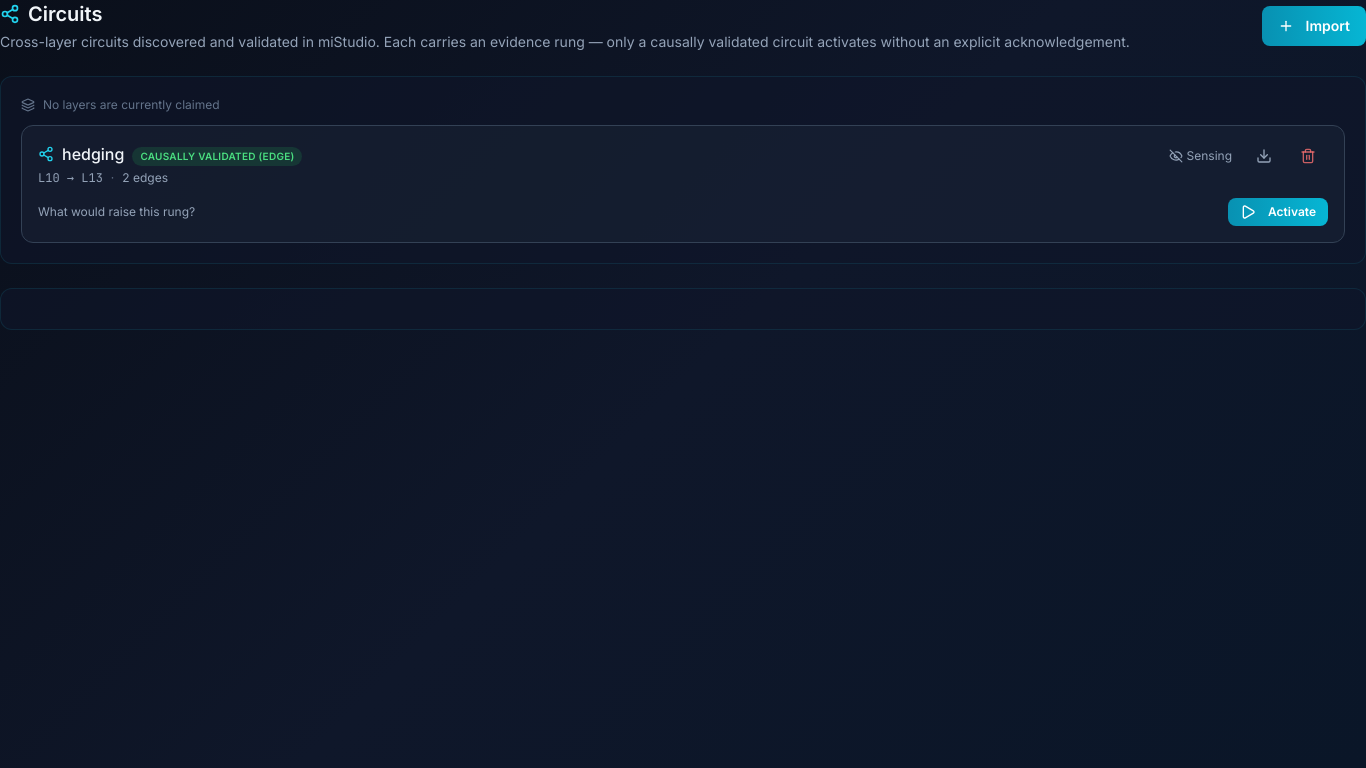
it: CircuitsPage — layer contention › names EVERY incumbent, not just the one it can deactivate
Click the button with test id "activate-button" at (1278, 212), box left=1228, top=198, right=1328, bottom=226
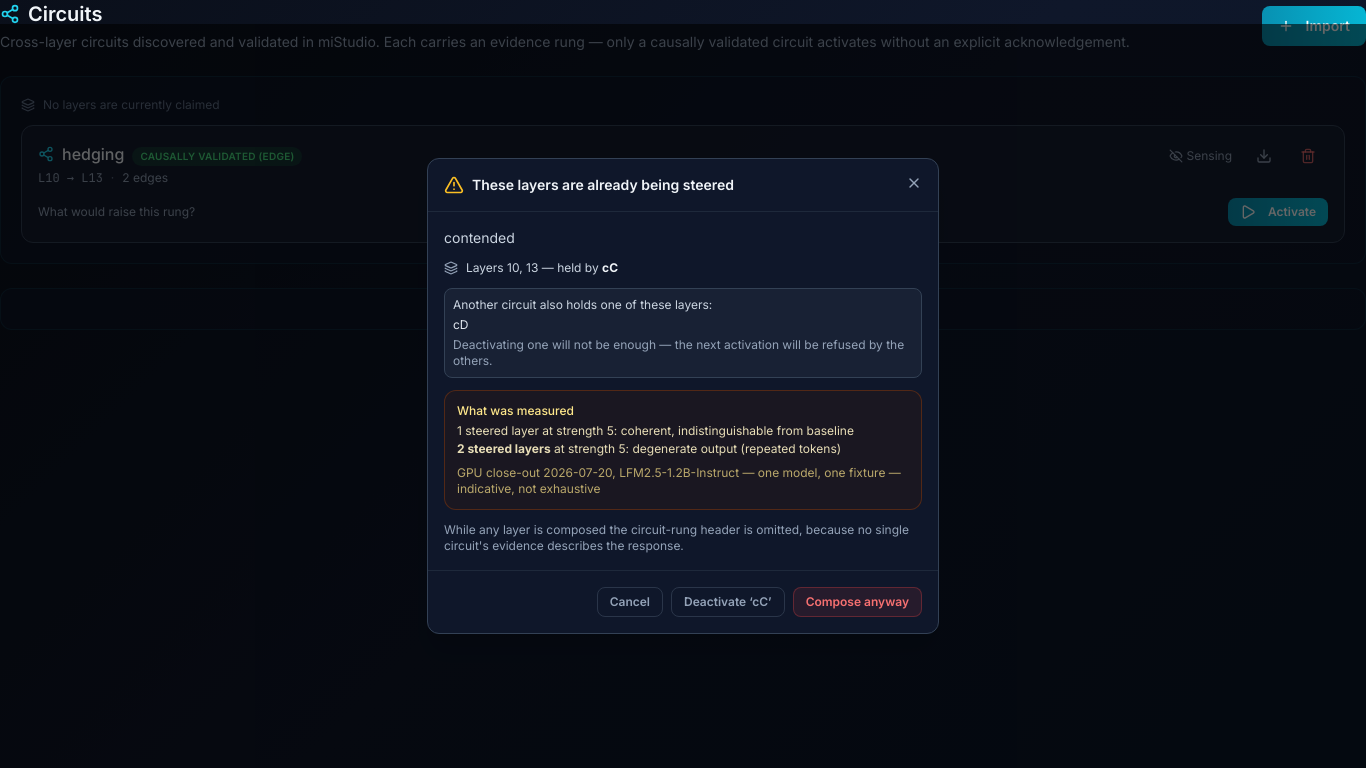
Expected: the element with test id "other-incumbents" shows "cD", left=453, top=317, right=468, bottom=332
Expected: the element with test id "other-incumbents" shows "will not be enough", left=453, top=337, right=904, bottom=368
Expected: the element with test id "contended-layers" shows "cC", left=602, top=260, right=618, bottom=275
